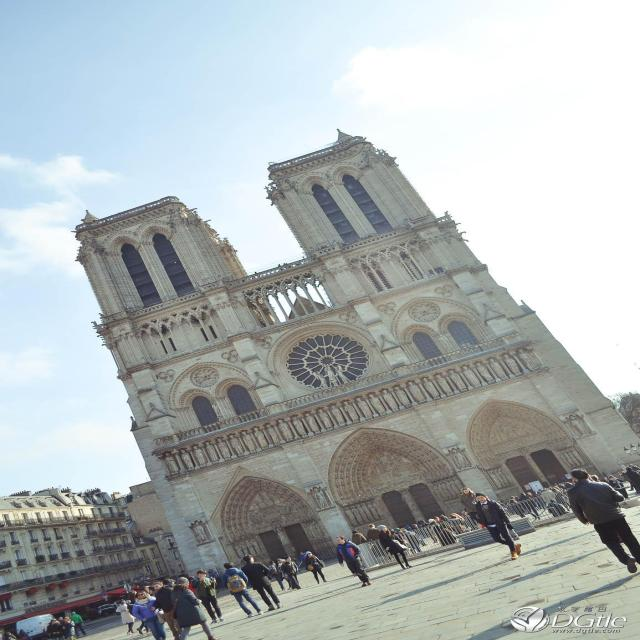non-fight: (220, 556, 259, 623), (335, 530, 371, 591)
